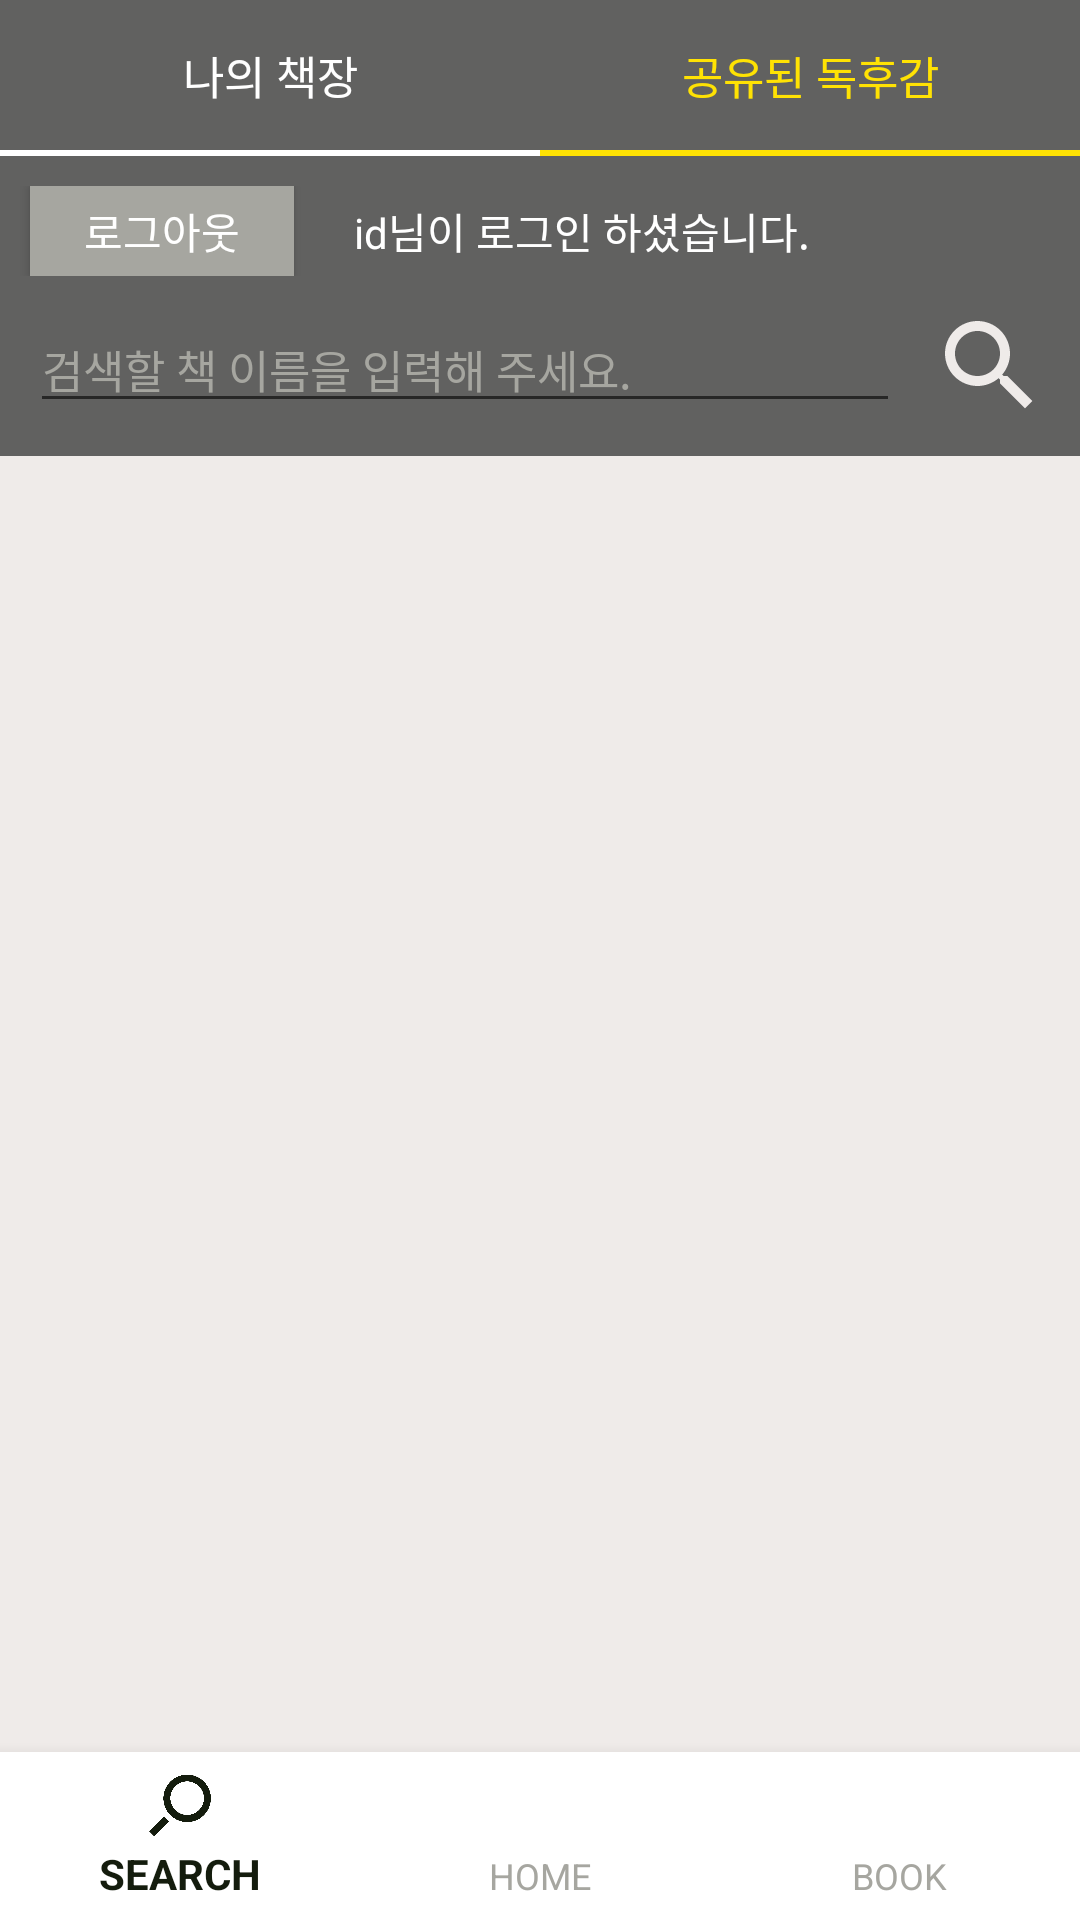

Where to tap for icons on this 1080x1920 app screen, as point (x, y):
search: point (988, 364)
